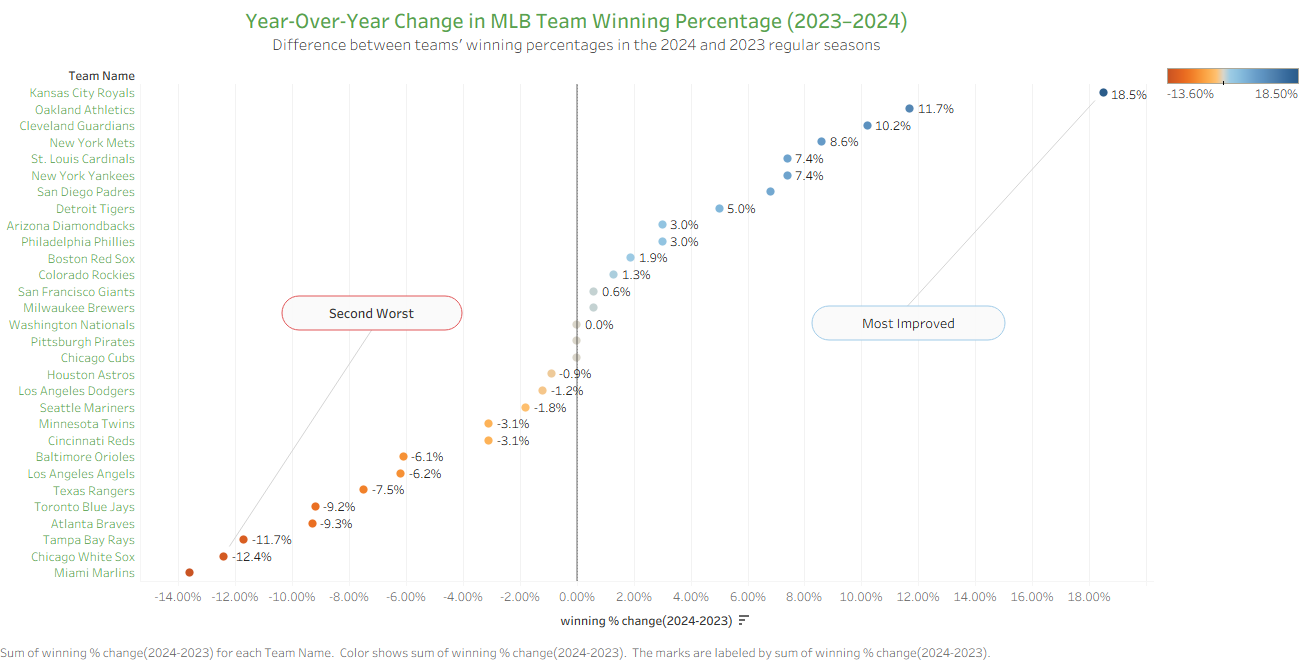

This screenshot's page, from the dashboard's own definition file:
{"tool":"tableau","page":{"name":"Dashboard 3","canvas":[1000,800],"ordinal":2},"visuals":[{"type":"title","box":[8,8,984,42]},{"type":"worksheet","title":"Sheet 1","mark":"Automatic","rows":["Tm"],"cols":["Calculation_1140501410082816"],"box":[8,50,824,371]},{"type":"legend","title":"Sheet 1","param":"[federated.1s9fc4u0pm689o1gdeifg1fbttaf].[sum:Calculation_1140501410082816:qk]","box":[832,50,160,65]},{"type":"worksheet","title":"Sheet 2","mark":"Circle","rows":["Tm"],"cols":["Calculation_0150940995805184"],"box":[8,421,984,371]}]}

Visuals, with their boxes on the page's 1000x800 design canvas (x1, y1, x2, y2). These are canvas units, not pixel positions in the 1303x661 screenshot, which may show the page scaled, cropped or inside an application window:
title: (left=8, top=8, right=992, bottom=50)
"Sheet 1" worksheet: (left=8, top=50, right=832, bottom=421)
"Sheet 1" legend: (left=832, top=50, right=992, bottom=115)
"Sheet 2" worksheet (Circle marks): (left=8, top=421, right=992, bottom=792)
